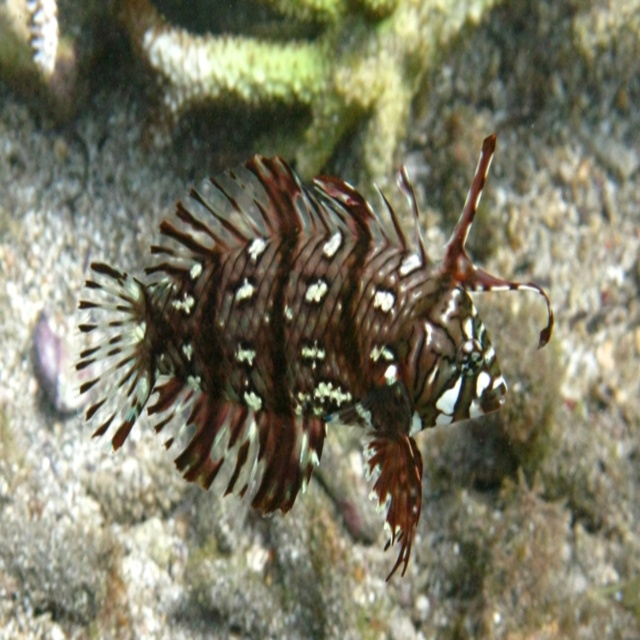Fish: (76, 129, 555, 580)
